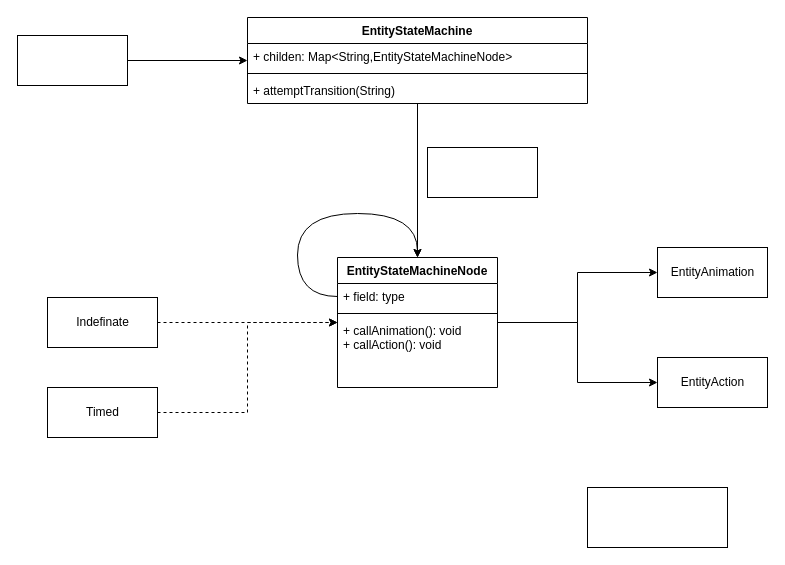
The diagram is 785 pixels wide and 565 high, and some of its shapes have lost their labels. Here are the shapes that lost their labels. From the top down, the box of each, then its label:
(16, 34, 128, 86): Entity
(426, 146, 538, 198): transitions
(586, 486, 728, 548): EntityAttackAction (default/sword/pickaxe)
